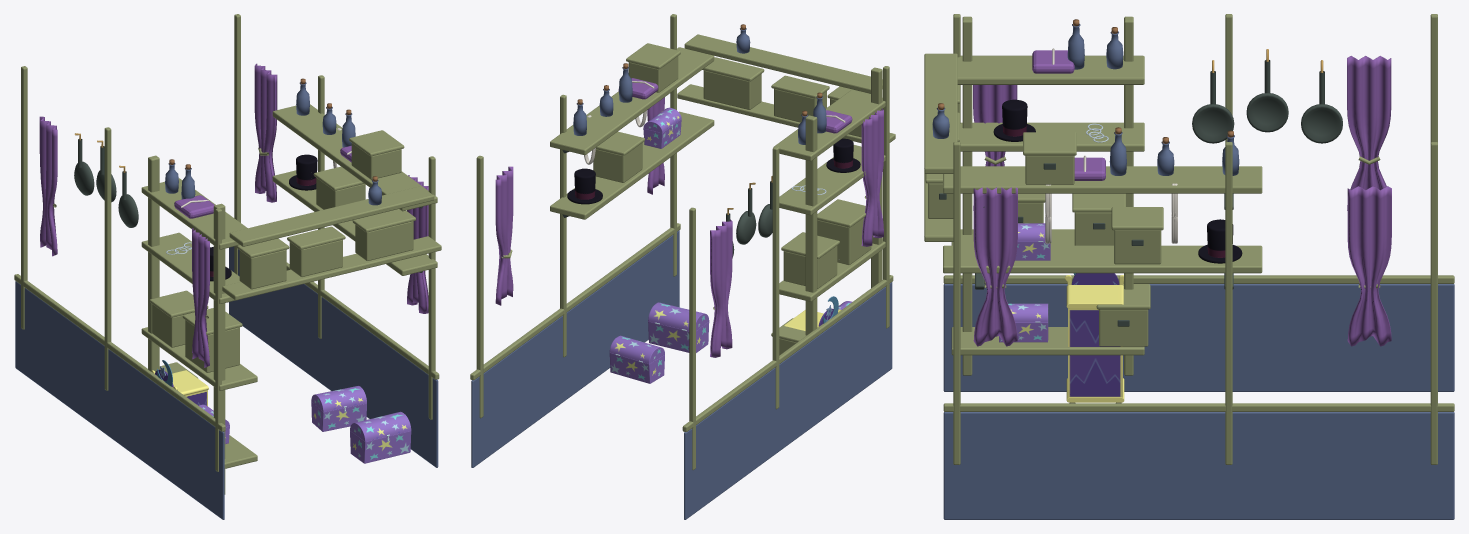
File: trixie-wagon-clutter-roomy.glb
3 views of the same model, side by side, from view 1: azimuth 30°, elevation 25°; view 2: azimuth 150°, elevation 25°; view 3: azimuth 270°, elevation 25° (orthographic). The views are drawn at different scales.
Parts seen in each view (by area): view 1: blue lower wall lining.001; view 2: blue lower wall lining.001; view 3: blue lower wall lining.001.
Boxes of the visible parts, x1=… form: blue lower wall lining.001: x1=14, y1=14, x2=441, y2=519; blue lower wall lining.001: x1=470, y1=14, x2=895, y2=519; blue lower wall lining.001: x1=924, y1=14, x2=1454, y2=519.
Bounding box in the file's own units: 2.73 × 3.6 × 4.53.
Materials: 22 (15 with a texture image).
